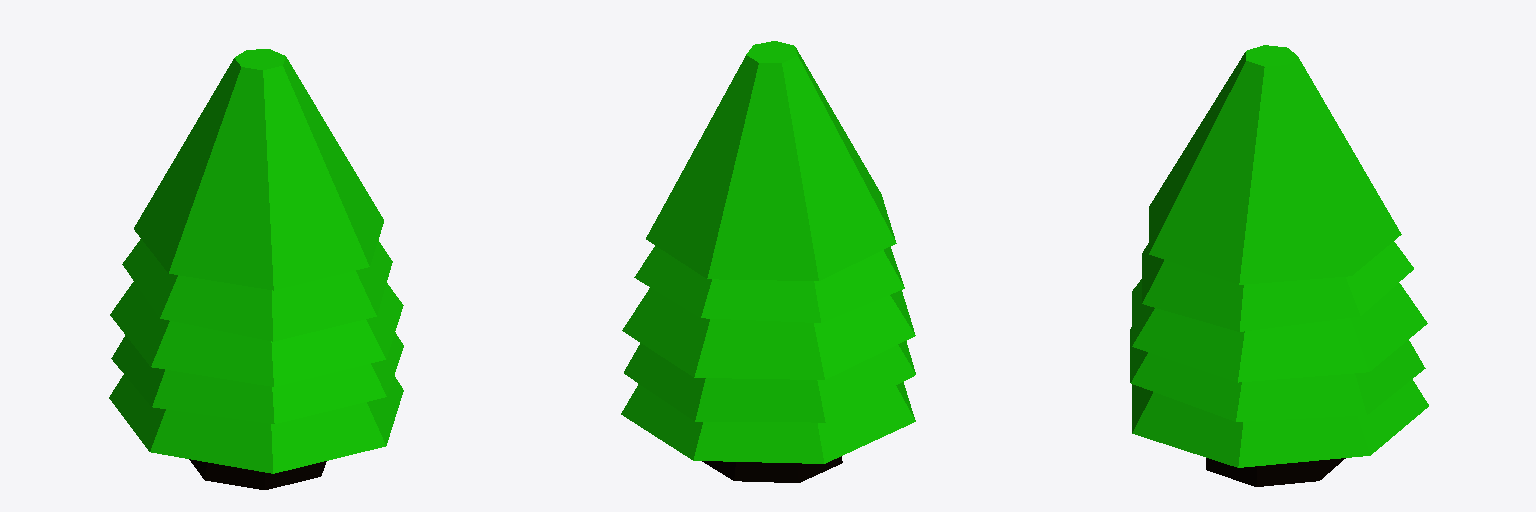
The model's file is ctree3B(F68).obj.
The picture shows the model from 3 angles: view 1: azimuth 30°, elevation 25°; view 2: azimuth 150°, elevation 25°; view 3: azimuth 270°, elevation 25°; orthographic projection.
Visible parts, largest first — view 1: Cylinder.112, Cylinder.110, Cylinder.108, Cylinder.111, Cylinder.109, Cylinder.107; view 2: Cylinder.112, Cylinder.110, Cylinder.109, Cylinder.108, Cylinder.111, Cylinder.107; view 3: Cylinder.112, Cylinder.110, Cylinder.108, Cylinder.111, Cylinder.109, Cylinder.107.
Part boxes in pixels (left/top/right/bottom): Cylinder.112: left=134, top=49, right=383, bottom=290; Cylinder.110: left=110, top=282, right=403, bottom=386; Cylinder.108: left=109, top=375, right=403, bottom=473; Cylinder.111: left=122, top=239, right=392, bottom=341; Cylinder.109: left=111, top=332, right=403, bottom=423; Cylinder.107: left=189, top=459, right=326, bottom=489; Cylinder.112: left=646, top=41, right=896, bottom=280; Cylinder.110: left=622, top=288, right=915, bottom=379; Cylinder.109: left=624, top=341, right=915, bottom=422; Cylinder.108: left=621, top=382, right=915, bottom=463; Cylinder.111: left=634, top=246, right=904, bottom=322; Cylinder.107: left=702, top=456, right=842, bottom=482; Cylinder.112: left=1149, top=45, right=1401, bottom=284; Cylinder.110: left=1132, top=279, right=1427, bottom=382; Cylinder.108: left=1132, top=379, right=1428, bottom=467; Cylinder.111: left=1142, top=241, right=1413, bottom=331; Cylinder.109: left=1130, top=327, right=1425, bottom=421; Cylinder.107: left=1206, top=458, right=1345, bottom=486.
Size of the model in its own units: 1.16 by 1.75 by 1.19.